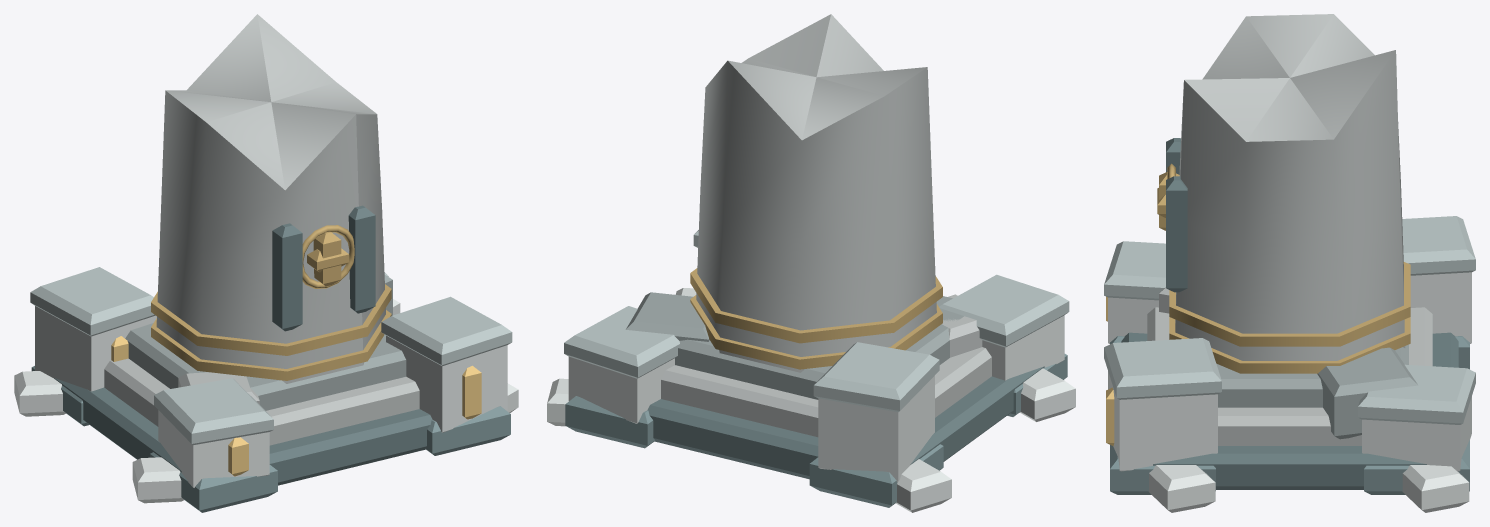
Rendered from shrine-terrain-v1.glb.
The picture shows the model from 3 angles, left to right: view 1: azimuth 30°, elevation 25°; view 2: azimuth 150°, elevation 25°; view 3: azimuth 270°, elevation 25°; orthographic projection. The views are drawn at different scales.
Visible parts, largest first — view 1: pillar, cover; view 2: pillar, cover; view 3: pillar, cover.
Boxes of the visible parts, x1,y1,x2,y2 form: pillar: (54,14,432,485); cover: (14,267,518,512); pillar: (626,14,1044,479); cover: (547,230,1075,512); pillar: (1121,14,1458,489); cover: (1104,216,1475,512).
Size of the model in its own units: 2.71 by 2.45 by 2.14.
